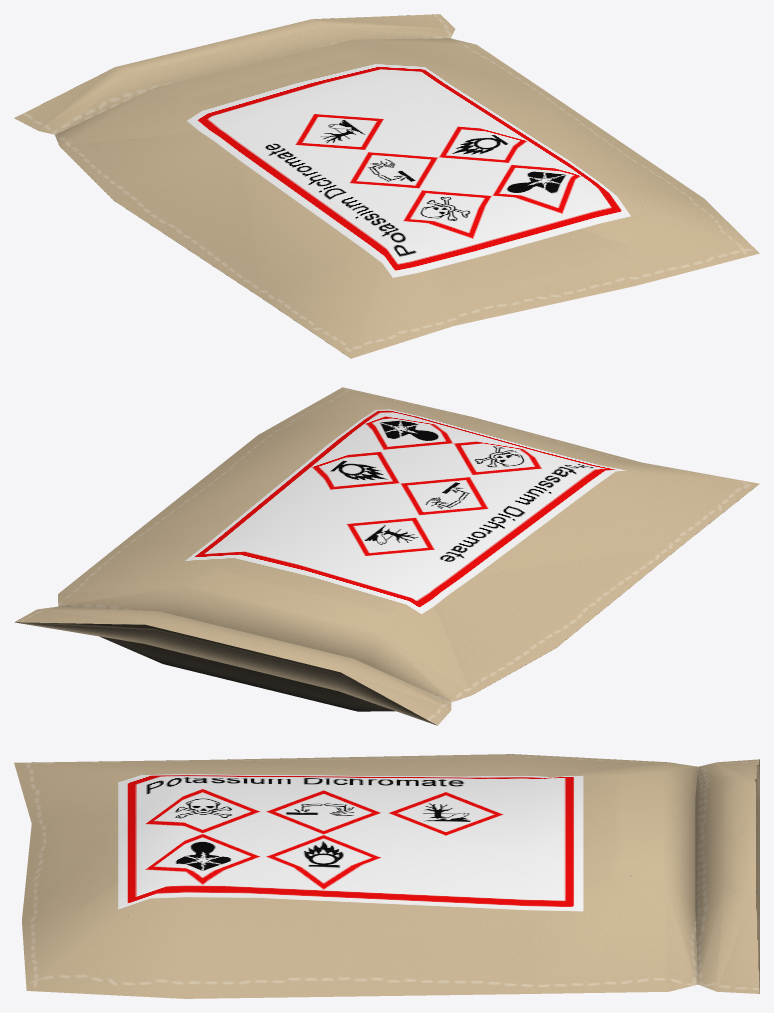
File: potassiumDichromate_L.fbx
3 views of the same model, one above another, from view 1: azimuth 30°, elevation 25°; view 2: azimuth 150°, elevation 25°; view 3: azimuth 270°, elevation 25° (orthographic). The views are drawn at different scales.
Visible parts, largest first — view 1: potassiumDichromate_L; view 2: potassiumDichromate_L; view 3: potassiumDichromate_L.
Boxes of the visible parts, box(x1,y1,x2,y2) form: potassiumDichromate_L: box(14, 14, 759, 358); potassiumDichromate_L: box(14, 387, 759, 725); potassiumDichromate_L: box(14, 754, 759, 998).
Bounding box in the file's own units: 0.304 × 0.0646 × 0.3913.
Materials: 1 (1 with a texture image).
